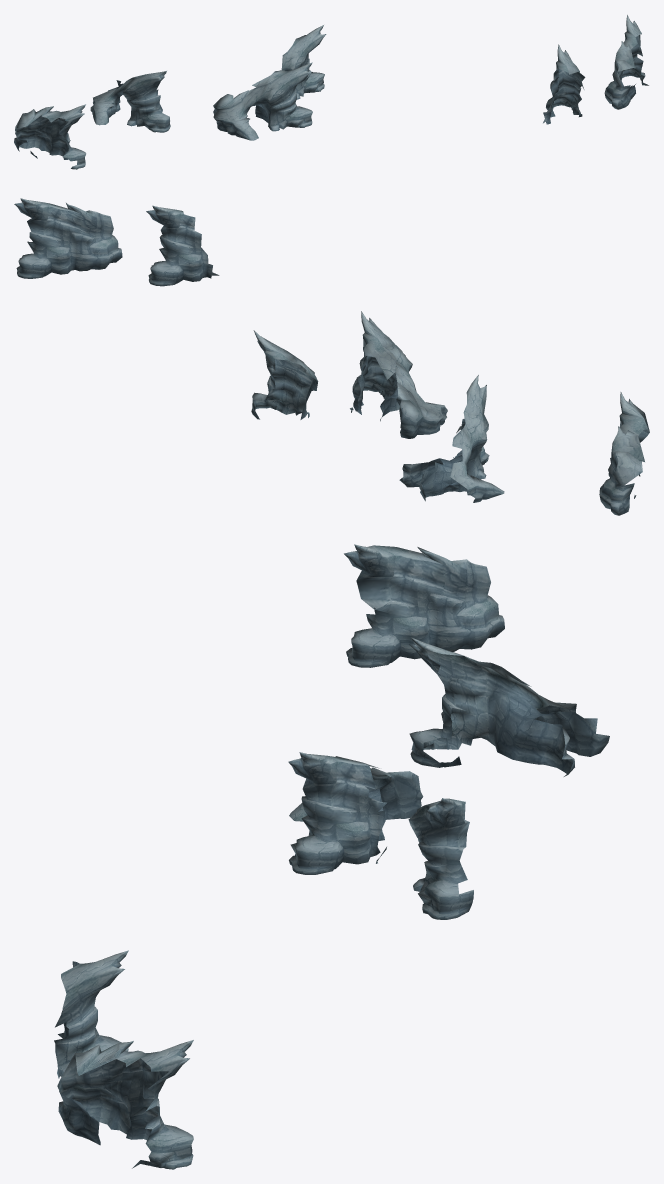
Rendered from yanshi2.FBX.
The picture shows the model from 3 angles, top to bottom: view 1: azimuth 30°, elevation 25°; view 2: azimuth 150°, elevation 25°; view 3: azimuth 270°, elevation 25°; orthographic projection. The views are drawn at different scales.
Parts seen in each view (by area): view 1: yanshi2; view 2: yanshi2; view 3: yanshi2.
Boxes of the visible parts, bbox=[...] form: yanshi2: bbox=[14, 15, 648, 169]; yanshi2: bbox=[14, 198, 649, 515]; yanshi2: bbox=[54, 544, 609, 1169].
Size of the model in its own units: 9607 by 1074 by 4185.
